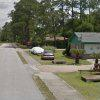Car: (28, 43, 56, 64)
